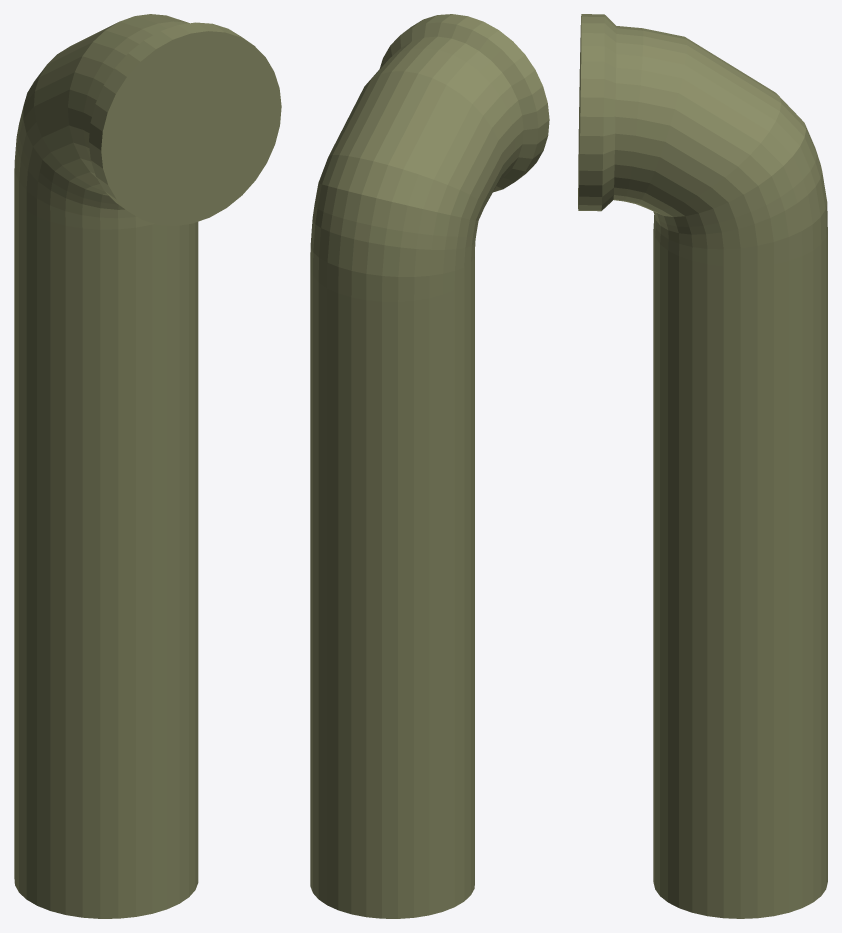
Rendered from column_low.fbx.
3 views of the same model, side by side, from view 1: azimuth 30°, elevation 25°; view 2: azimuth 150°, elevation 25°; view 3: azimuth 270°, elevation 25° (orthographic). The views are drawn at different scales.
Parts seen in each view (by area): view 1: Cylinder; view 2: Cylinder; view 3: Cylinder.
Boxes of the visible parts, left/top/right/bottom form: Cylinder: left=14, top=14, right=281, bottom=918; Cylinder: left=310, top=14, right=549, bottom=918; Cylinder: left=578, top=14, right=827, bottom=918.
Bounding box in the file's own units: 226 × 1087 × 286.
